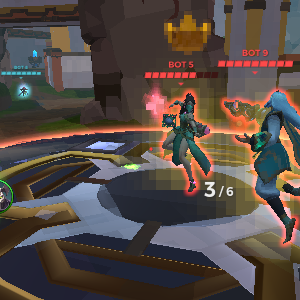model: (228, 79, 299, 252), (159, 88, 214, 191)
